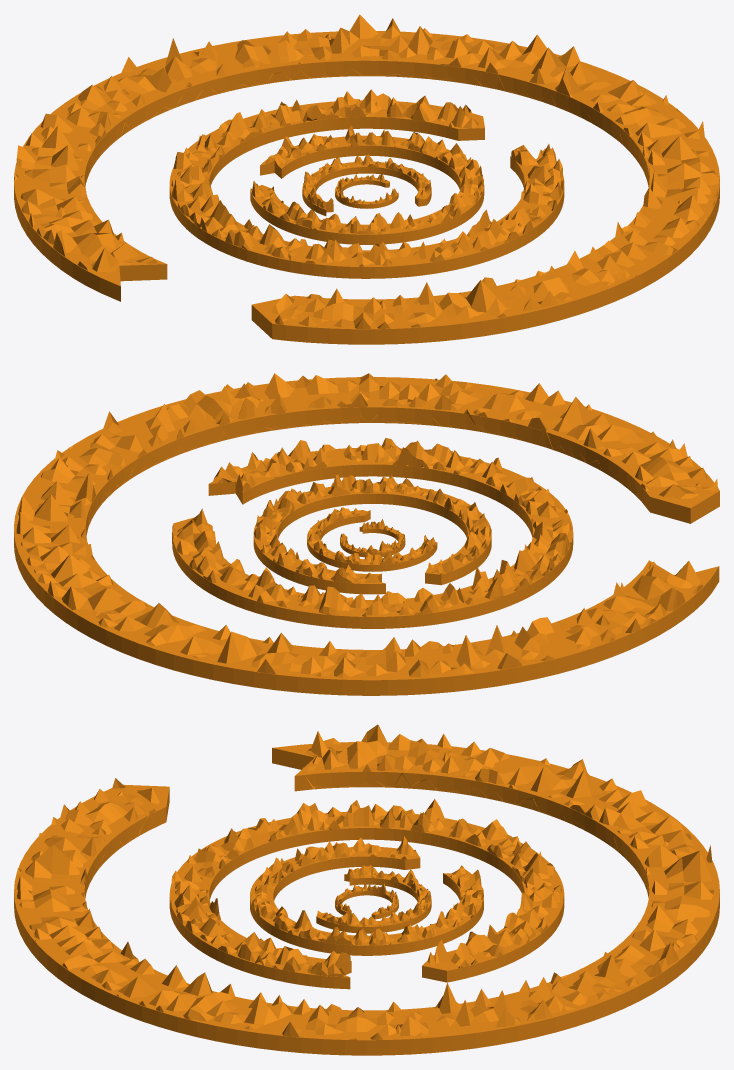
Rendered from hireco_3DScene_ringRAndO-v1-forGLTF.glb.
3 views of the same model, one above another, from view 1: azimuth 30°, elevation 25°; view 2: azimuth 150°, elevation 25°; view 3: azimuth 270°, elevation 25° (orthographic).
Parts seen in each view (by area): view 1: ring6-r, ring6-o, ring5-r, ring5-o, ring4-r, ring4-o, ring3-r, ring3-o, ring2-o, ring2-r; view 2: ring6-o, ring6-r, ring5-r, ring5-o, ring4-r, ring4-o, ring3-o, ring3-r, ring2-r, ring2-o; view 3: ring6-r, ring6-o, ring5-r, ring5-o, ring4-r, ring4-o, ring3-r, ring3-o, ring2-r, ring2-o.
Part boxes in pixels (<box>): ring6-r: <box>14,14,719,329</box>; ring6-o: <box>14,31,719,344</box>; ring5-r: <box>171,89,563,266</box>; ring5-o: <box>169,100,564,278</box>; ring4-r: <box>250,125,483,234</box>; ring4-o: <box>250,135,484,244</box>; ring3-r: <box>302,154,431,208</box>; ring3-o: <box>302,161,431,215</box>; ring2-o: <box>335,177,398,208</box>; ring2-r: <box>335,173,397,204</box>; ring6-o: <box>14,377,719,695</box>; ring6-r: <box>16,373,717,677</box>; ring5-r: <box>172,438,571,616</box>; ring5-o: <box>172,447,573,628</box>; ring4-r: <box>254,474,491,583</box>; ring4-o: <box>253,483,491,594</box>; ring3-o: <box>307,510,437,571</box>; ring3-r: <box>307,507,435,564</box>; ring2-r: <box>340,519,405,553</box>; ring2-o: <box>340,526,405,557</box>; ring6-r: <box>17,724,714,1039</box>; ring6-o: <box>14,742,719,1055</box>; ring5-r: <box>171,799,563,976</box>; ring5-o: <box>169,811,564,989</box>; ring4-r: <box>251,836,483,945</box>; ring4-o: <box>250,847,483,955</box>; ring3-r: <box>317,865,431,926</box>; ring3-o: <box>316,873,431,933</box>; ring2-r: <box>335,882,398,914</box>; ring2-o: <box>335,888,398,919</box>.
Bounding box in the file's own units: 1.55 × 0.1035 × 1.55.
